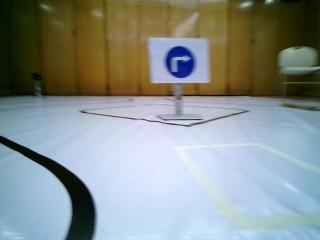right: (155, 42, 209, 81)
